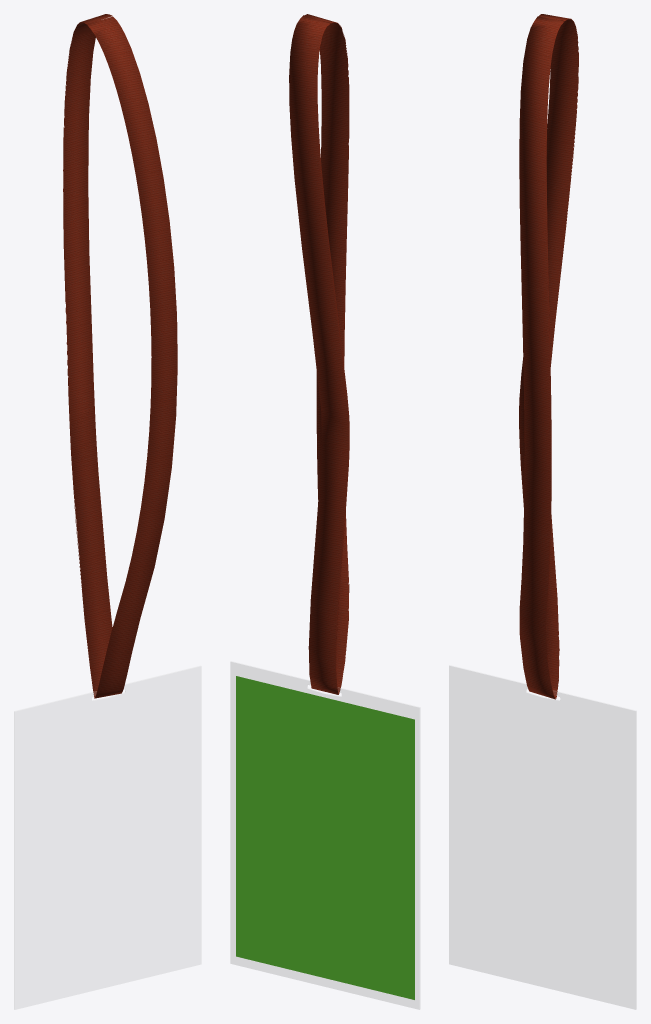
The model's file is badge_rotated3.gltf.
3 renders of one model, left to right at view 1: azimuth 30°, elevation 25°; view 2: azimuth 150°, elevation 25°; view 3: azimuth 330°, elevation 25°, orthographic.
Visible parts, largest first — view 1: Plastic Wrap_3, Ribbon_4; view 2: Plastic Wrap_3, Employee Id Card Design_2, Ribbon_4; view 3: Plastic Wrap_3, Ribbon_4.
Boxes of the visible parts, x1,y1,x2,y2 form: Plastic Wrap_3: (14,666,201,1009); Ribbon_4: (63,14,177,698); Plastic Wrap_3: (230,661,420,1009); Employee Id Card Design_2: (236,676,414,999); Ribbon_4: (289,14,349,694); Plastic Wrap_3: (449,665,636,1009); Ribbon_4: (519,14,578,699).
Bounding box in the file's own units: 0.7058 × 3.47 × 0.3818.
Materials: 3 (2 with a texture image).
